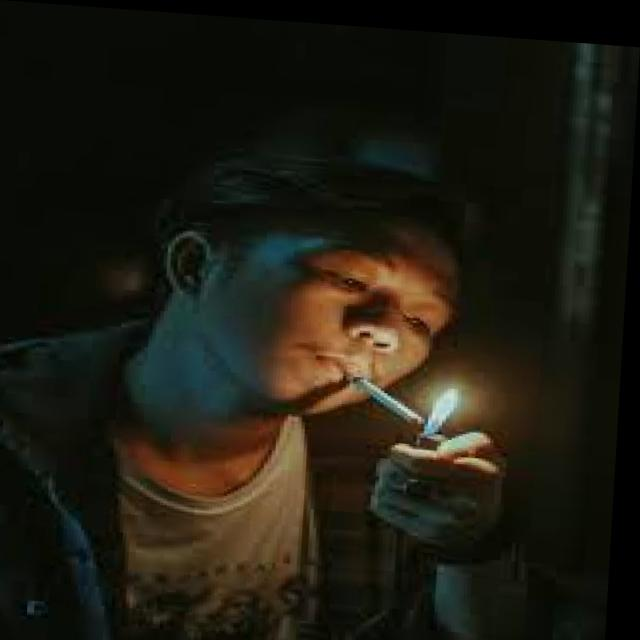fire: (408, 372, 477, 429)
